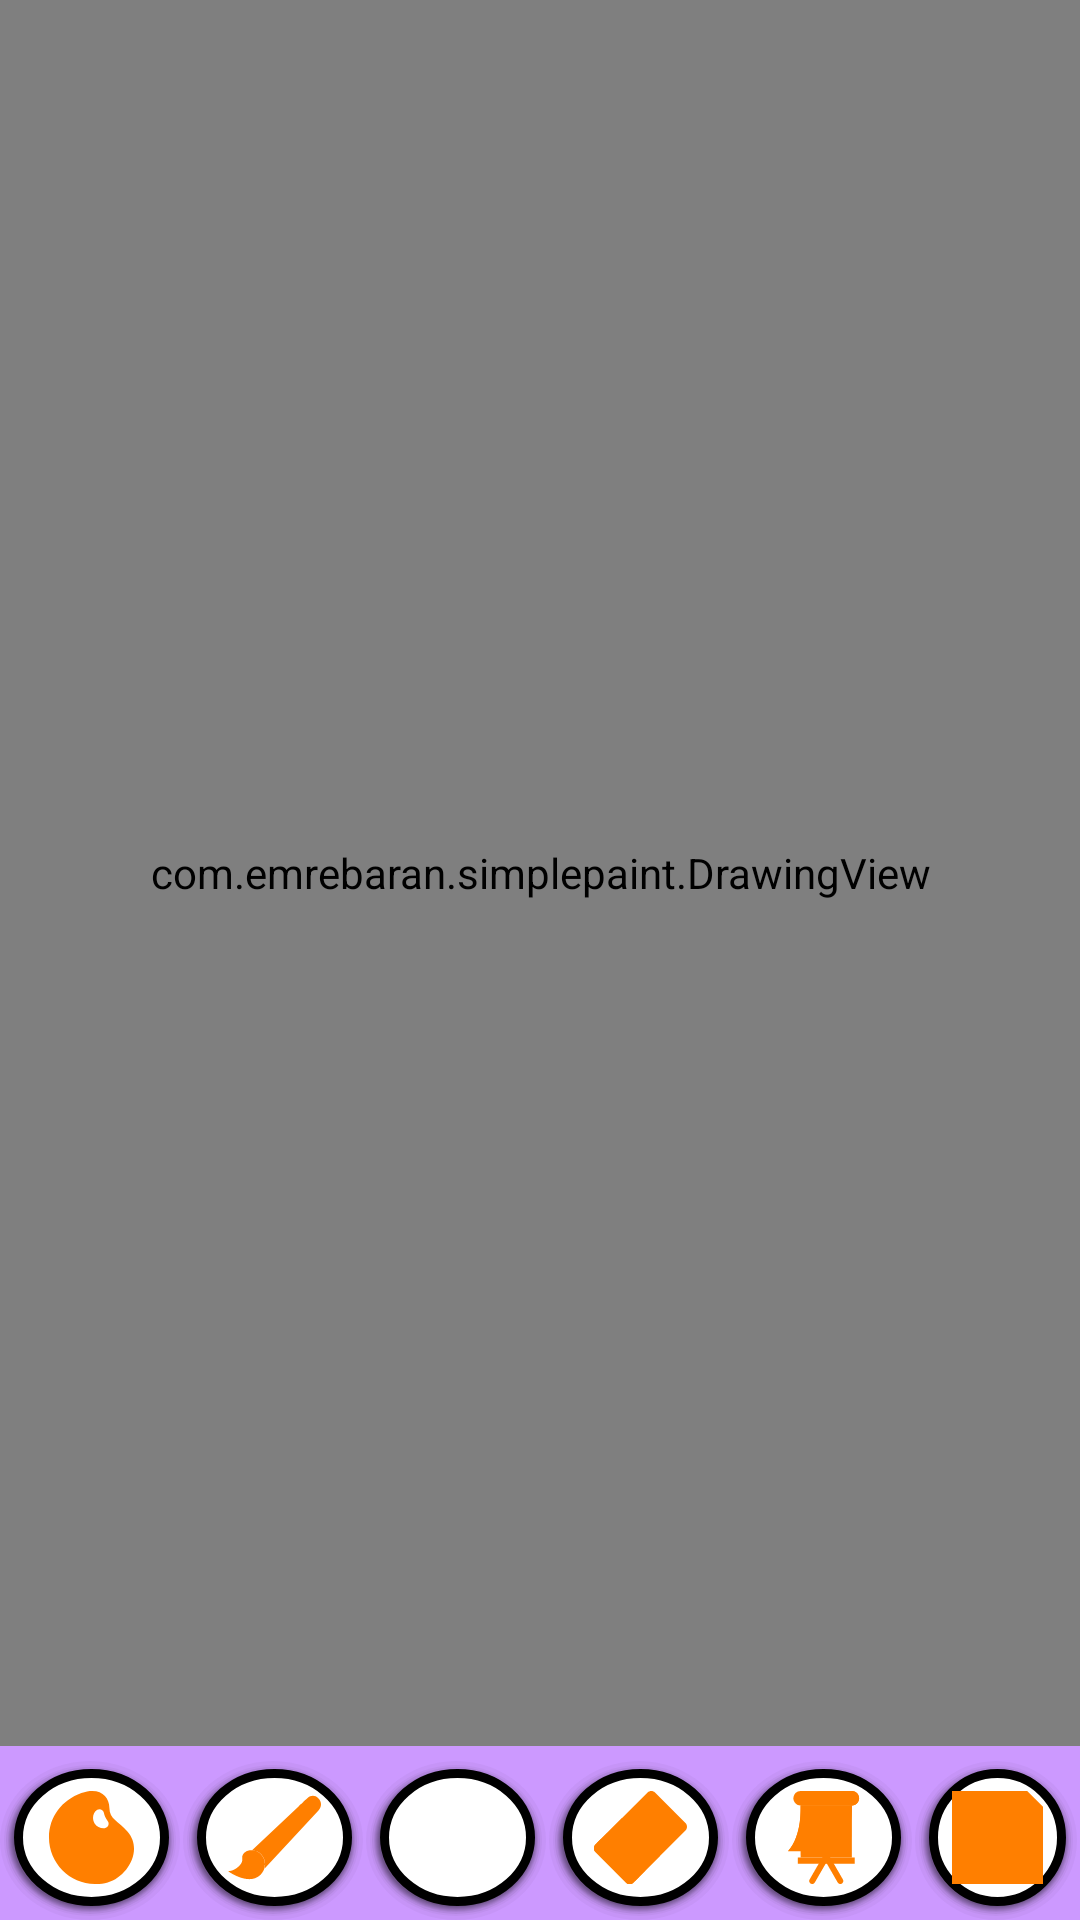

Icons on this 1080*1920 Android screen, each with its box as (x1, y1, x2, y2):
paint brush: (189, 1767, 357, 1914)
paint eraser: (555, 1767, 723, 1914)
paint palette: (6, 1767, 174, 1914)
